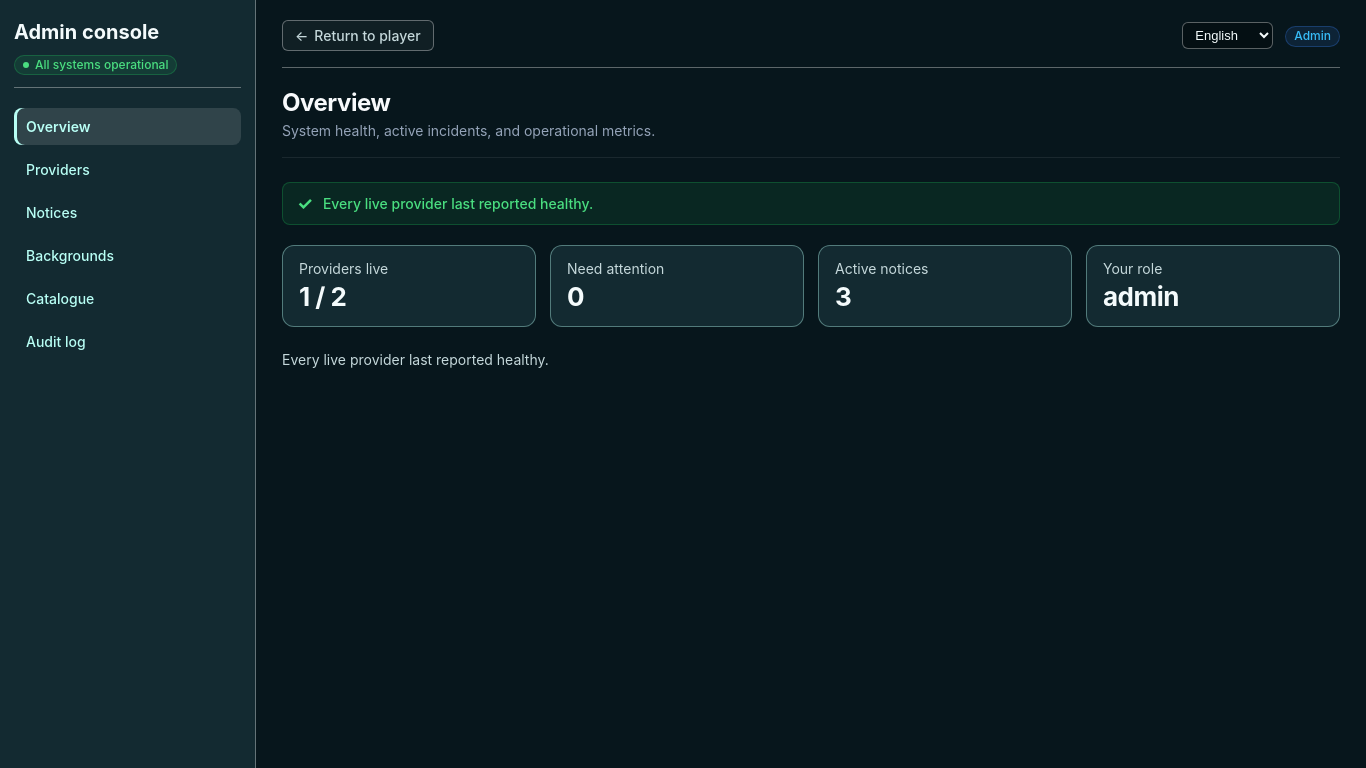
Scenario: AdminShell › renders overview cards and provider table when the session is admin
Expected: the element that starts with "Admin console" is shown, x1=0 y1=0 x2=256 y2=767
Expected: the element showing "Active notices 3" is shown, x1=818 y1=245 x2=1072 y2=327
Click the link "Providers".
click(58, 170)  # box x1=26 y1=161 x2=90 y2=178
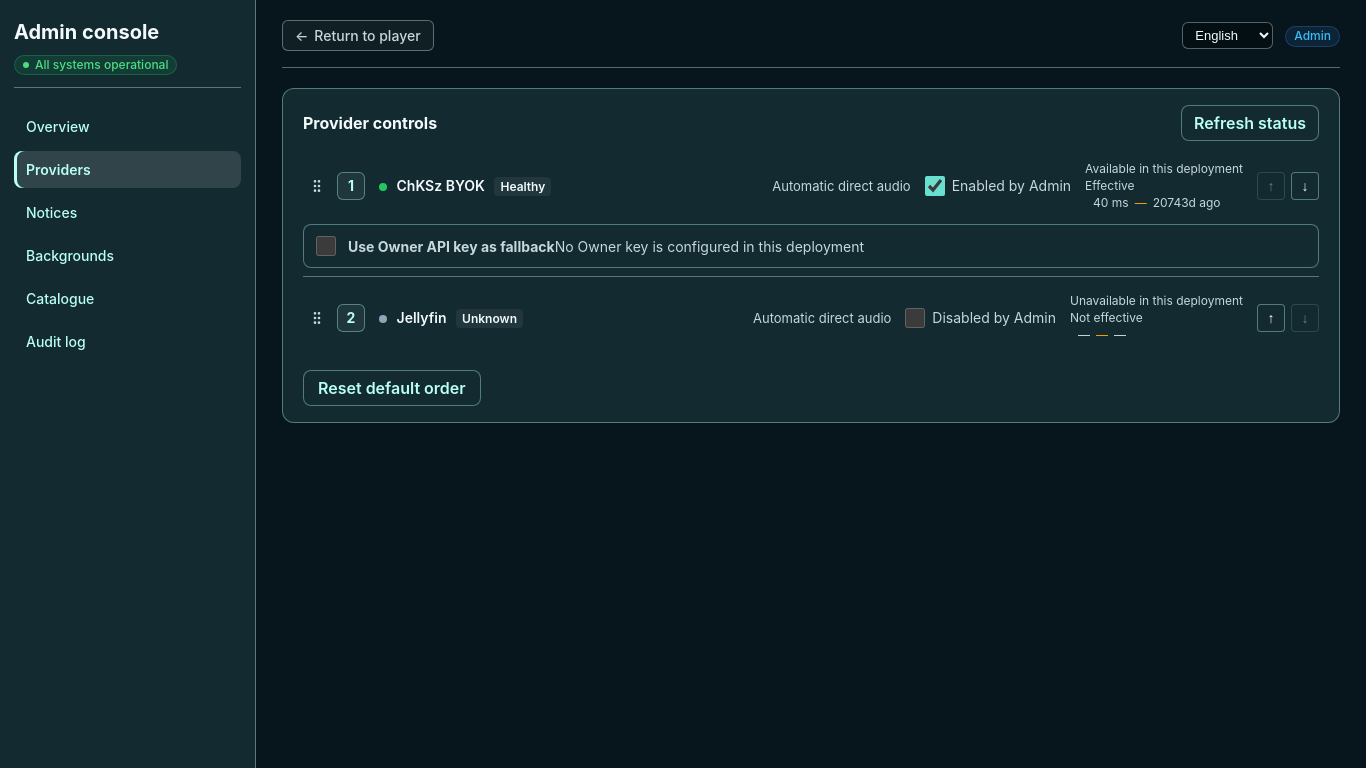
Expected: the number of list items is 2, x1=303 y1=153 x2=1319 y2=277; x1=303 y1=285 x2=1319 y2=350
Expected: the list item that starts with "ChKSz BYOK" is shown, x1=393 y1=177 x2=488 y2=194
Expected: the checkbox labelled "Enabled by Admin" is checked, x1=925 y1=176 x2=945 y2=196
